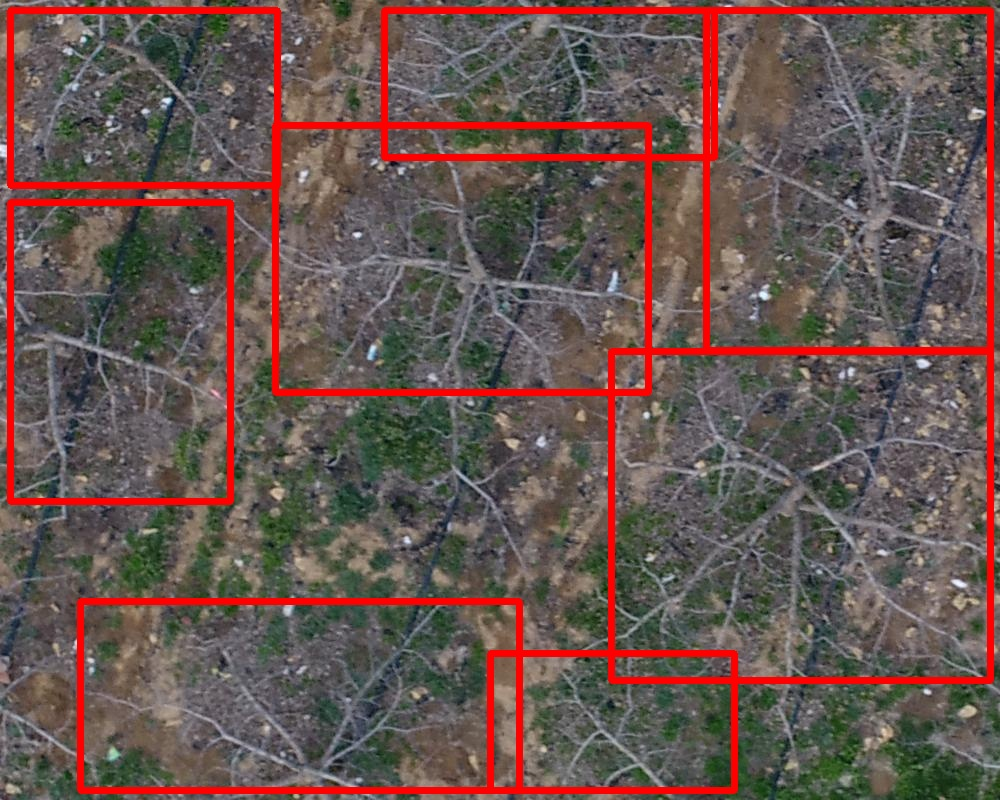apple: (611, 351, 990, 680), (275, 125, 648, 392), (706, 10, 990, 350), (80, 601, 519, 790), (10, 202, 230, 501), (384, 10, 714, 157), (10, 10, 277, 185), (490, 653, 734, 790)
